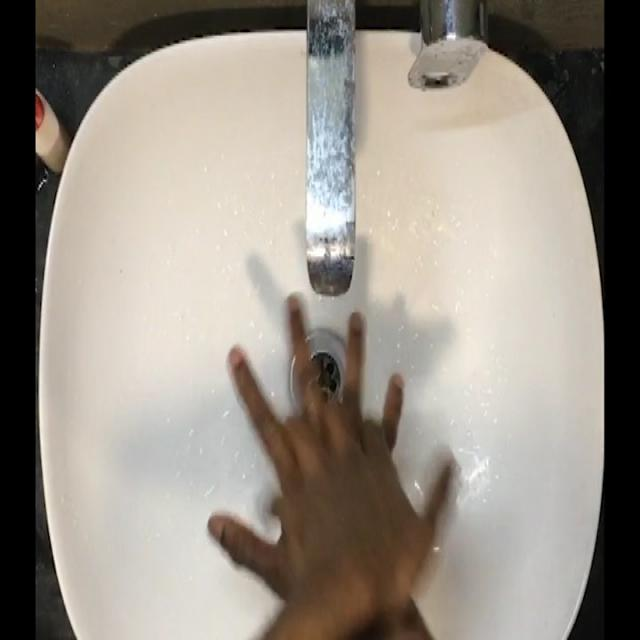step_2: (198, 287, 451, 605)
